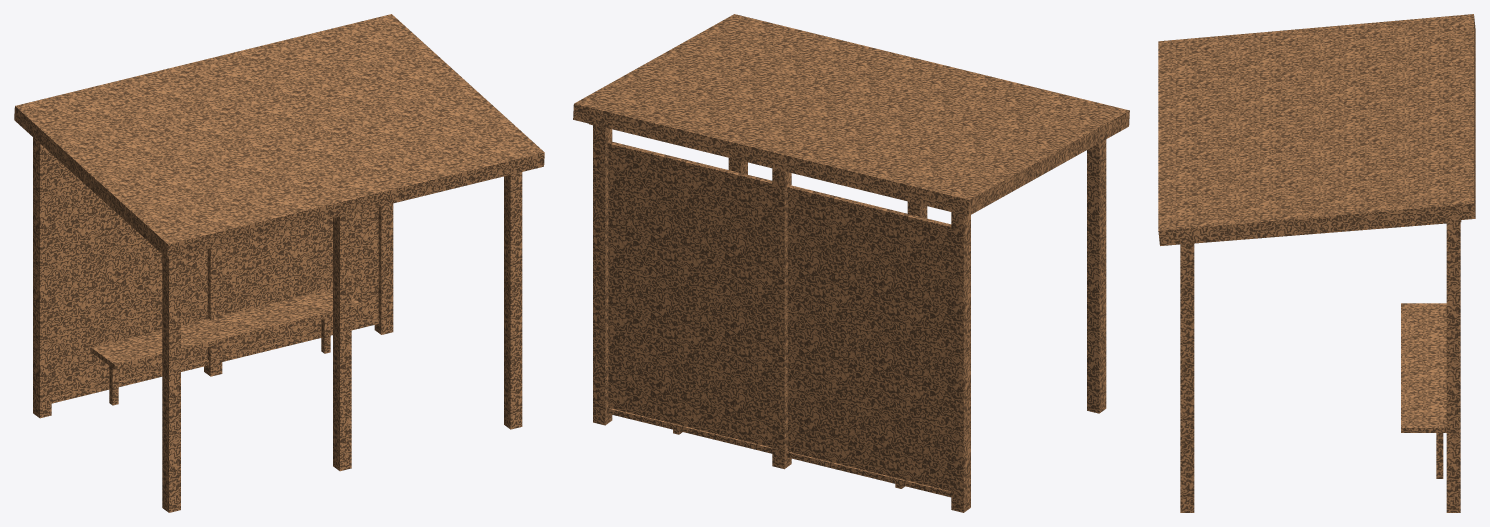
3 renders of one model, left to right at view 1: azimuth 30°, elevation 25°; view 2: azimuth 150°, elevation 25°; view 3: azimuth 270°, elevation 25°, orthographic. The views are drawn at different scales.
Parts seen in each view (by area): view 1: backWall=true;depth=2;frameMaterial=timber;height=2.4;postSi; view 2: backWall=true;depth=2;frameMaterial=timber;height=2.4;postSi; view 3: backWall=true;depth=2;frameMaterial=timber;height=2.4;postSi.
Part boxes in pixels (x1=…): backWall=true;depth=2;frameMaterial=timber;height=2.4;postSi: x1=14, y1=14, x2=544, y2=512; backWall=true;depth=2;frameMaterial=timber;height=2.4;postSi: x1=573, y1=14, x2=1129, y2=512; backWall=true;depth=2;frameMaterial=timber;height=2.4;postSi: x1=1158, y1=14, x2=1475, y2=512.
Size of the model in its own units: 3.2 by 2.26 by 2.48.
1 material, 1 textured.
